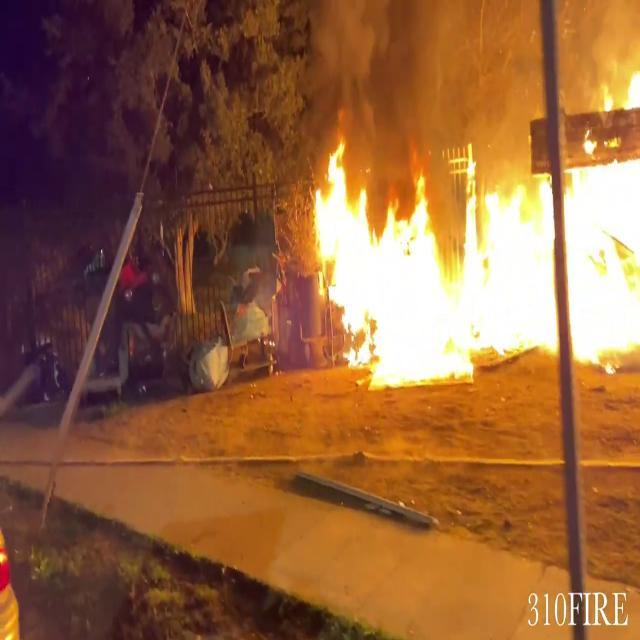Fire: (303, 138, 639, 384)
Smoke: (302, 0, 606, 194)
